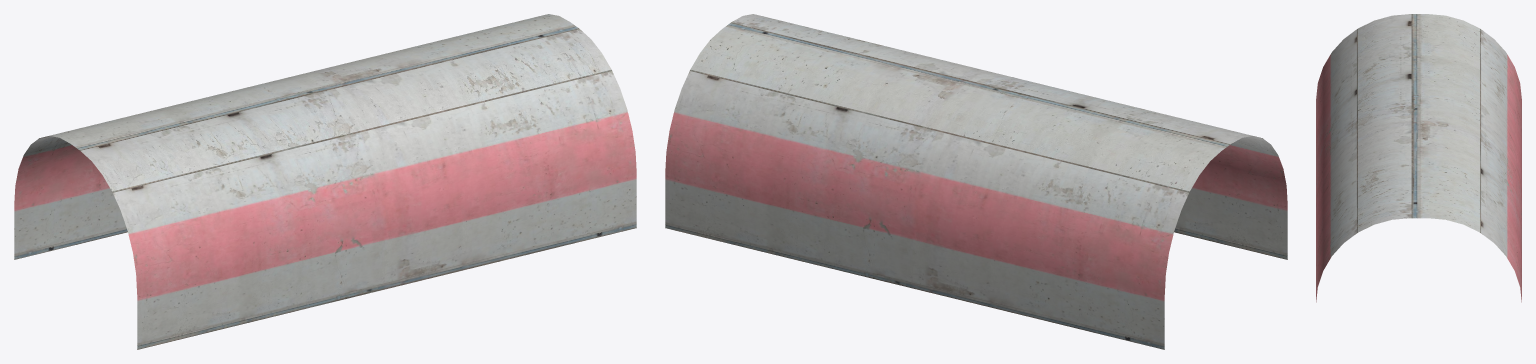
The model's file is tunnel1b.dae.
The picture shows the model from 3 angles, left to right: view 1: azimuth 30°, elevation 25°; view 2: azimuth 150°, elevation 25°; view 3: azimuth 270°, elevation 25°; orthographic projection. The views are drawn at different scales.
Visible parts, largest first — view 1: Cube.017; view 2: Cube.017; view 3: Cube.017.
Boxes of the visible parts, x1,y1,x2,y2 form: Cube.017: (14, 14, 636, 349); Cube.017: (665, 14, 1287, 349); Cube.017: (1316, 14, 1521, 302).
Size of the model in its own units: 30 by 12.79 by 9.03.
1 material, 1 textured.
